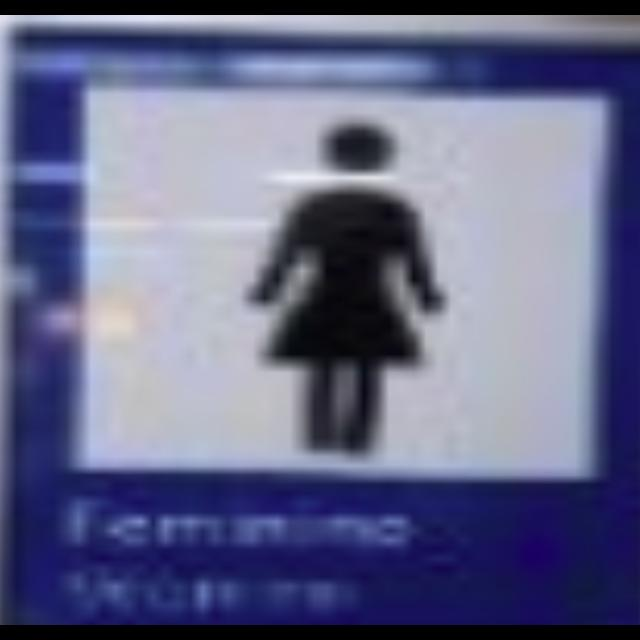wc nu: (5, 25, 639, 625)
